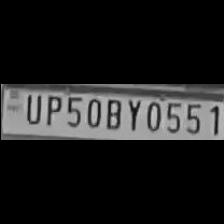0: (142, 98, 162, 132), (82, 96, 100, 128)
1: (204, 102, 222, 136)
5: (182, 101, 202, 135), (61, 94, 80, 128), (163, 99, 181, 133)
B: (102, 96, 122, 130)
P: (42, 93, 60, 127)
U: (21, 93, 41, 125)
Y: (122, 97, 142, 132)
